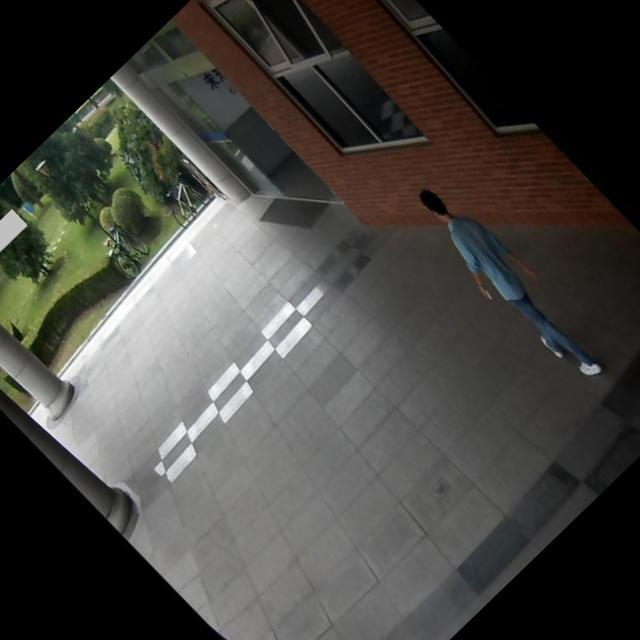person: (382, 149, 630, 403)
